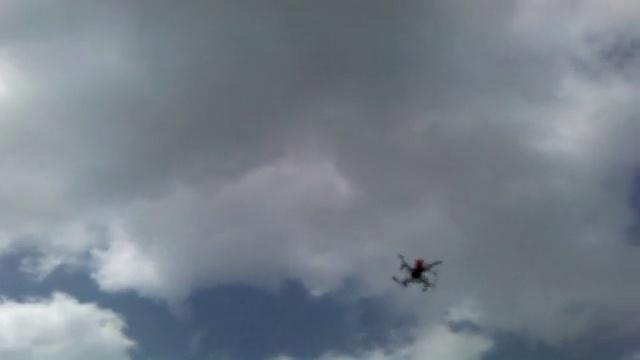drone: (389, 251, 445, 294)
